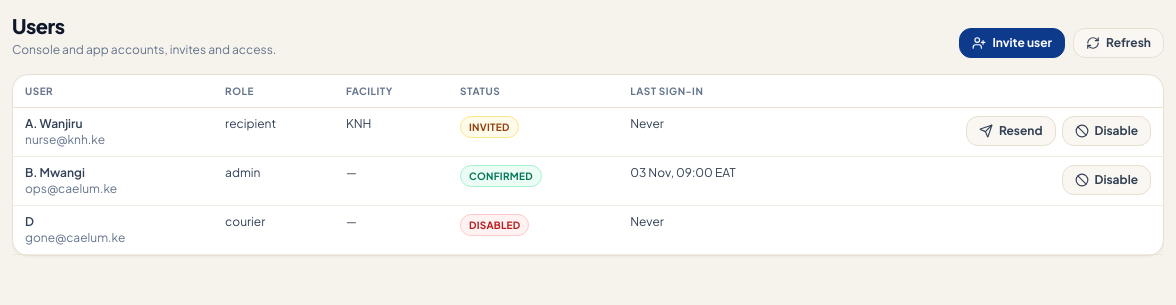
Test: UsersPage › explains 403 and resend 409
The width and height of the screenshot is (1176, 305).
Step 1. Click the button with aria-label "Resend invite to nurse@knh.ke" → (1011, 131), box left=966, top=116, right=1056, bottom=146
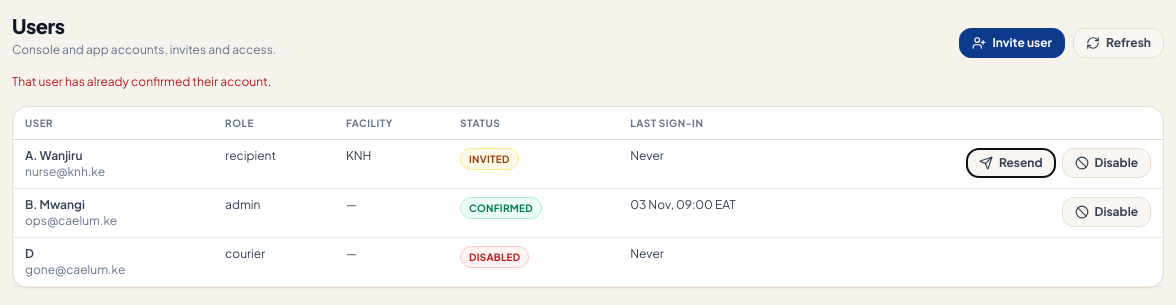
expect the text "That user has already confirmed their account." is shown: met, box left=12, top=74, right=271, bottom=89
